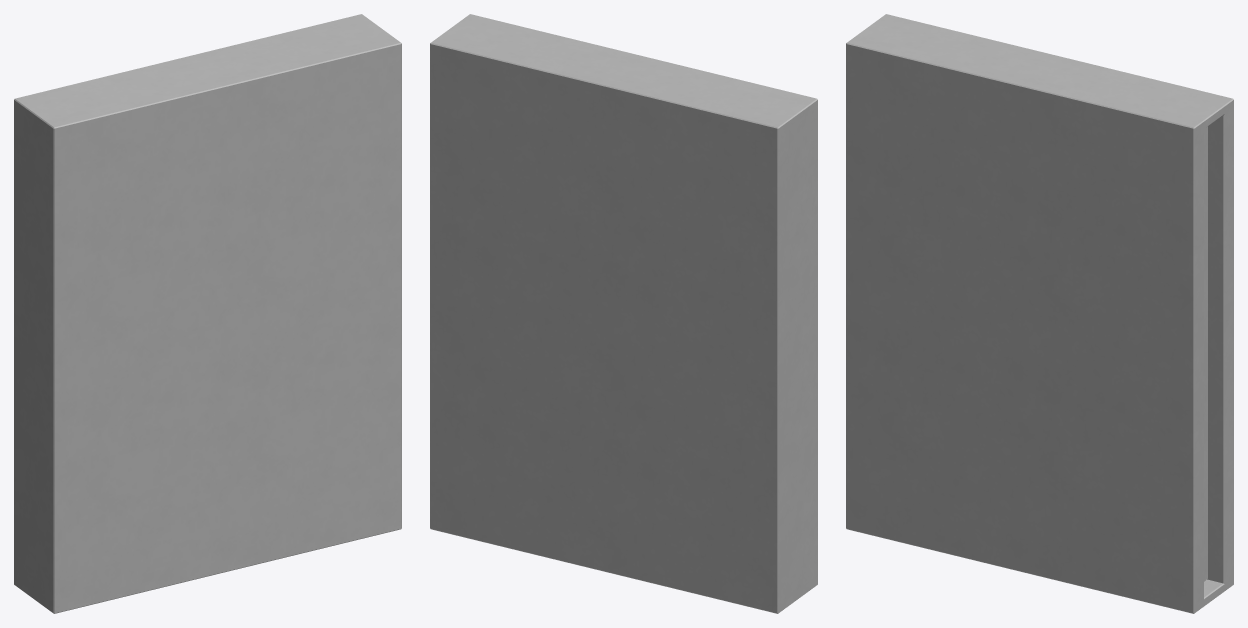
Rendered from m_zidoudoor.fbx.
3 views of the same model, side by side, from view 1: azimuth 30°, elevation 25°; view 2: azimuth 150°, elevation 25°; view 3: azimuth 330°, elevation 25° (orthographic).
Parts seen in each view (by area): view 1: pCube2; view 2: pCube2; view 3: pCube2, pCube1.
Part boxes in pixels (x1,y1,x2,y2): pCube2: (14,14,401,613); pCube2: (430,14,817,613); pCube2: (846,14,1233,613); pCube1: (1204,126,1207,581).
Bounding box in the file's own units: 1.5 × 2 × 0.3.
3 materials, 2 textured.
